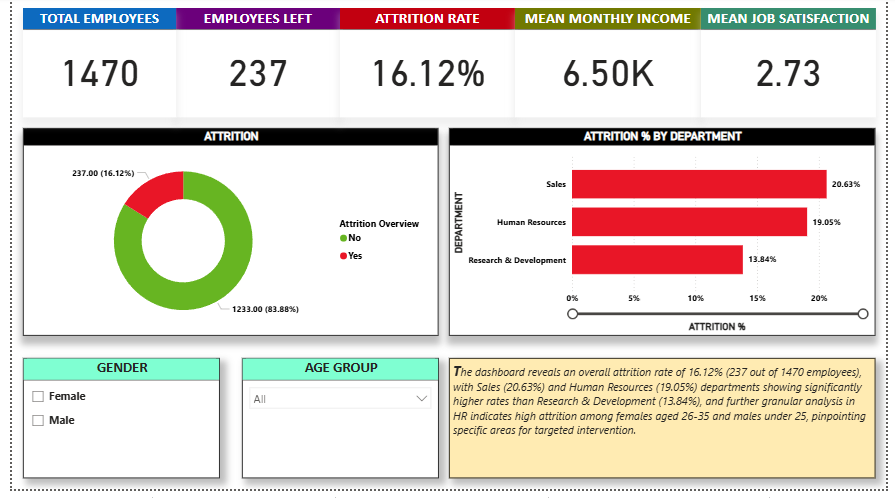

The dashboard page shown, as its layout file describes it:
{"tool":"powerbi","page":{"name":"Page 1-Executive Summary","canvas":[1280,720],"ordinal":0},"visuals":[{"type":"donutChart","title":"ATTRITION","fields":{"Category":["HR Employee Attrition.Attrition"],"Y":["CountNonNull(HR Employee Attrition.Employee_Number)"]},"box":[16,192,608,304],"z":0},{"type":"card","title":"EMPLOYEES LEFT","fields":{"Values":["View.Employees_Left"]},"box":[240,16,240,160],"z":1000},{"type":"card","title":"TOTAL EMPLOYEES","fields":{"Values":["View.Count_Of_Employees"]},"box":[16,16,224,160],"z":2000},{"type":"card","title":"ATTRITION RATE","fields":{"Values":["View.Attrition_Rate"]},"box":[480,16,256,160],"z":3000},{"type":"card","title":"MEAN MONTHLY INCOME","fields":{"Values":["View.Average_Monthly_Income"]},"box":[736,16,272,160],"z":4000},{"type":"card","title":"MEAN JOB SATISFACTION","fields":{"Values":["View.Average_Job_Satisfaction"]},"box":[1008,16,256,160],"z":5000},{"type":"clusteredBarChart","title":"ATTRITION % BY DEPARTMENT","fields":{"Y":["View.Attrition_Rate"],"Category":["HR Employee Attrition.Department"]},"box":[640,192,624,304],"z":6000},{"type":"slicer","title":"GENDER","fields":{"Values":["HR Employee Attrition.Gender"]},"box":[16,528,288,176],"z":7000},{"type":"slicer","title":"AGE GROUP","fields":{"Values":["HR Employee Attrition.Age Group"]},"box":[336,528,288,176],"z":8000},{"type":"textbox","box":[640,528,624,176],"z":9000}]}

Visuals, with their boxes in screenshot pixels (x1, y1, x2, y2), scaled from the page's 1280x720 canvas onto the 895x498 screenshot:
"ATTRITION" donutChart: [left=11, top=133, right=436, bottom=343]
"EMPLOYEES LEFT" card: [left=168, top=11, right=336, bottom=122]
"TOTAL EMPLOYEES" card: [left=11, top=11, right=168, bottom=122]
"ATTRITION RATE" card: [left=336, top=11, right=515, bottom=122]
"MEAN MONTHLY INCOME" card: [left=515, top=11, right=705, bottom=122]
"MEAN JOB SATISFACTION" card: [left=705, top=11, right=884, bottom=122]
"ATTRITION % BY DEPARTMENT" clusteredBarChart: [left=448, top=133, right=884, bottom=343]
"GENDER" slicer: [left=11, top=365, right=213, bottom=487]
"AGE GROUP" slicer: [left=235, top=365, right=436, bottom=487]
textbox: [left=448, top=365, right=884, bottom=487]
